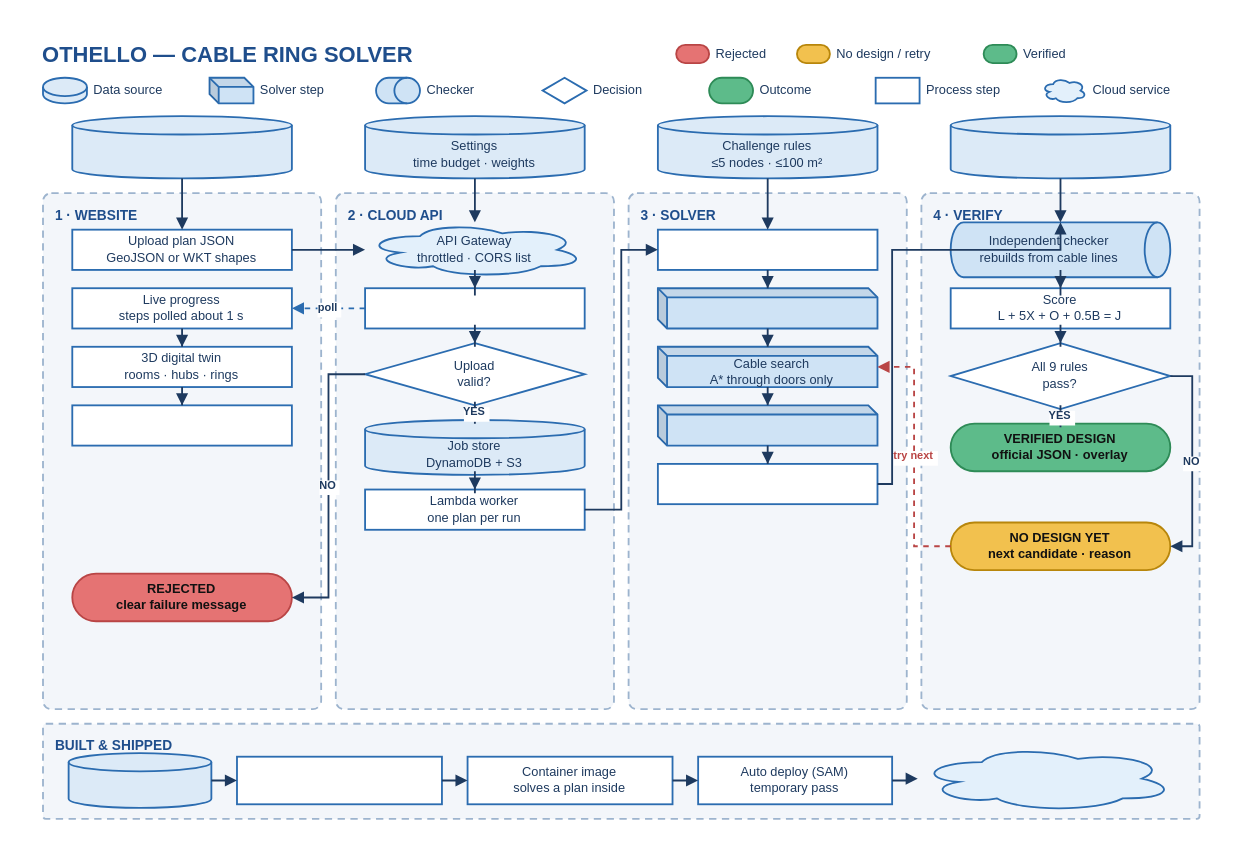
Image size: 1252x858. Some labels were removed from this diagram. Here are the shapes that lost their labels. From the top down, the centre of each, then its label:
At [181,146]: "ResPlan plan JSON 17,000-plan dataset".
At [1059,146]: "Broken-design tests 13 attacks, all caught".
At [766,249]: "Reader repair · scale · hub zones".
At [474,307]: "Lambda API JSON only · size limits".
At [766,307]: "Room groups proven minimum hubs".
At [181,425]: "9-rule audit & score L · X · O · B · J".
At [766,425]: "Anytime improvement best within time budget".
At [766,483]: "Candidate design hubs · rings · cables".
At [139,779]: "GitHub 4 people".
At [338,779]: "CI on every push lint + ~1,300 tests".
At [1045,778]: "AWS us-east-1 Lambda · DynamoDB · S3".
